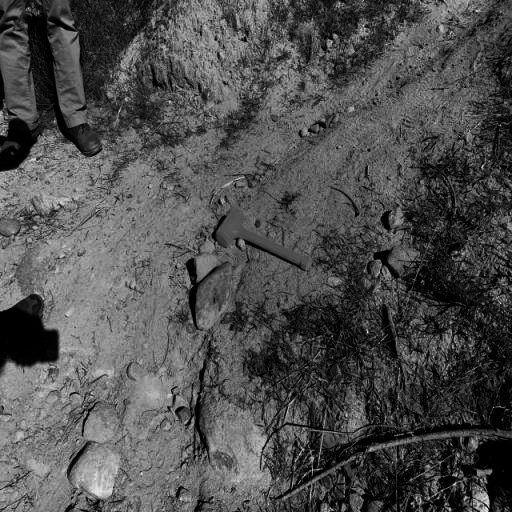mallet: (210, 200, 312, 274)
